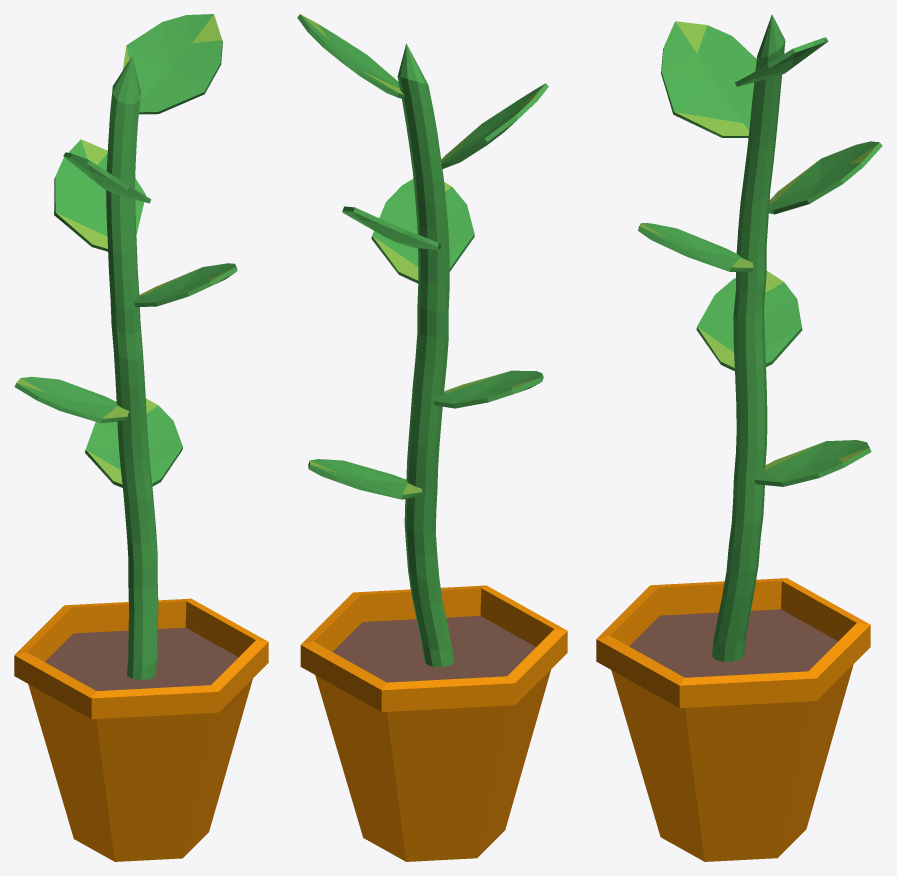
The model's file is plant_model.fbx.
3 views of the same model, side by side, from view 1: azimuth 30°, elevation 25°; view 2: azimuth 150°, elevation 25°; view 3: azimuth 270°, elevation 25° (orthographic). The views are drawn at different scales.
Parts seen in each view (by area): view 1: group_823932876, group_1058222103, group_1276702087, group_1941524321, group_447562698, group_6150194, group_1747136343, group_308257080; view 2: group_823932876, group_1058222103, group_1747136343, group_447562698, group_6150194, group_1276702087, group_308257080, group_1941524321; view 3: group_823932876, group_1058222103, group_308257080, group_6150194, group_1941524321, group_447562698, group_1747136343, group_1276702087.
Boxes of the visible parts, x1,y1,x2,y2 form: group_823932876: [14, 598, 268, 861]; group_1058222103: [106, 56, 158, 679]; group_1276702087: [122, 14, 222, 114]; group_1941524321: [54, 139, 145, 251]; group_447562698: [85, 398, 182, 487]; group_6150194: [14, 376, 128, 423]; group_1747136343: [133, 263, 237, 307]; group_308257080: [63, 152, 150, 203]; group_823932876: [300, 585, 567, 861]; group_1058222103: [397, 43, 454, 667]; group_1747136343: [371, 179, 474, 283]; group_447562698: [308, 459, 422, 499]; group_6150194: [433, 370, 543, 408]; group_1276702087: [297, 14, 404, 99]; group_308257080: [441, 83, 548, 168]; group_1941524321: [342, 206, 441, 250]; group_823932876: [596, 578, 870, 861]; group_1058222103: [712, 14, 785, 661]; group_308257080: [661, 21, 756, 137]; group_6150194: [696, 271, 802, 371]; group_1941524321: [765, 141, 882, 214]; group_447562698: [752, 440, 871, 486]; group_1747136343: [638, 223, 753, 272]; group_1276702087: [735, 37, 828, 86].
Size of the model in its own units: 98.51 by 337 by 104.
